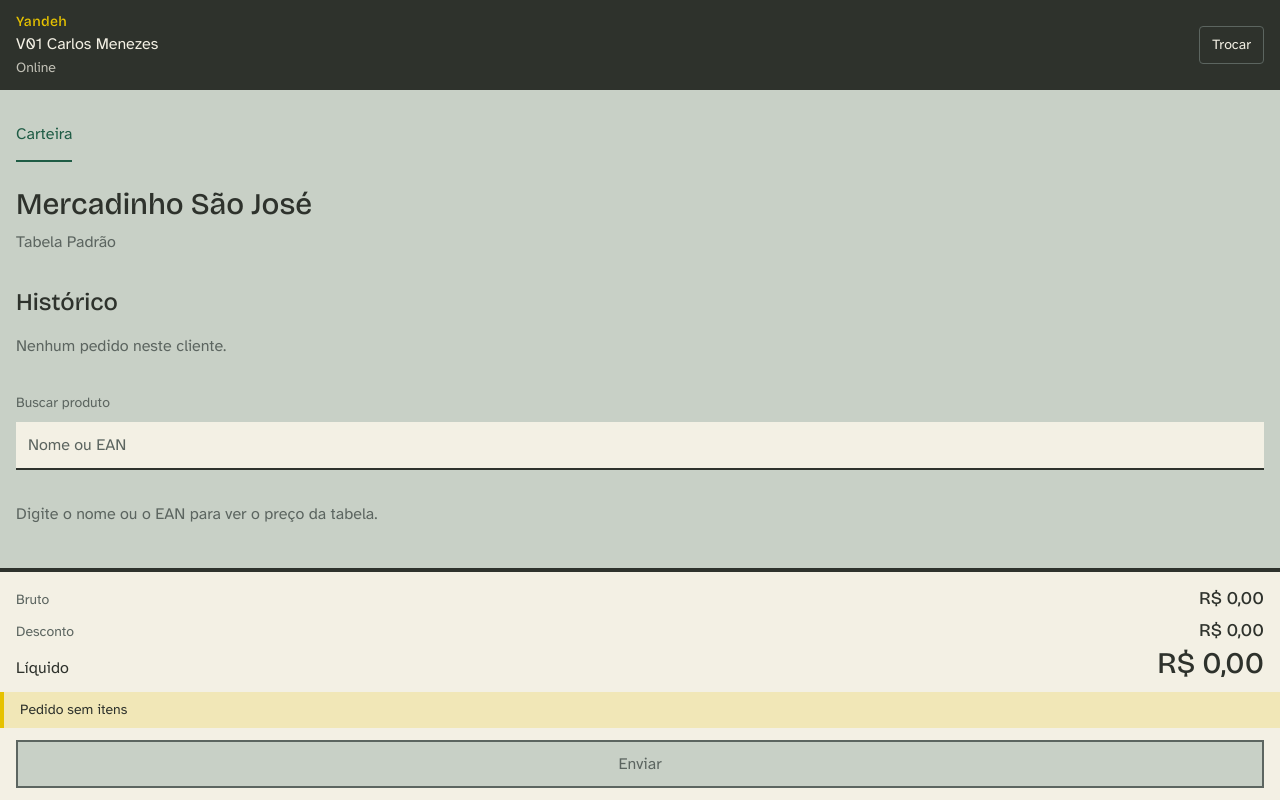
OrderPage › mostra estado vazio quando a busca não encontra produto
Type "xyzinexistente" into the search field with test id "product-search".
click(640, 446); type("xyzinexistente")  # box top-left (16, 422), bottom-right (1264, 470)
Wait 300 ms
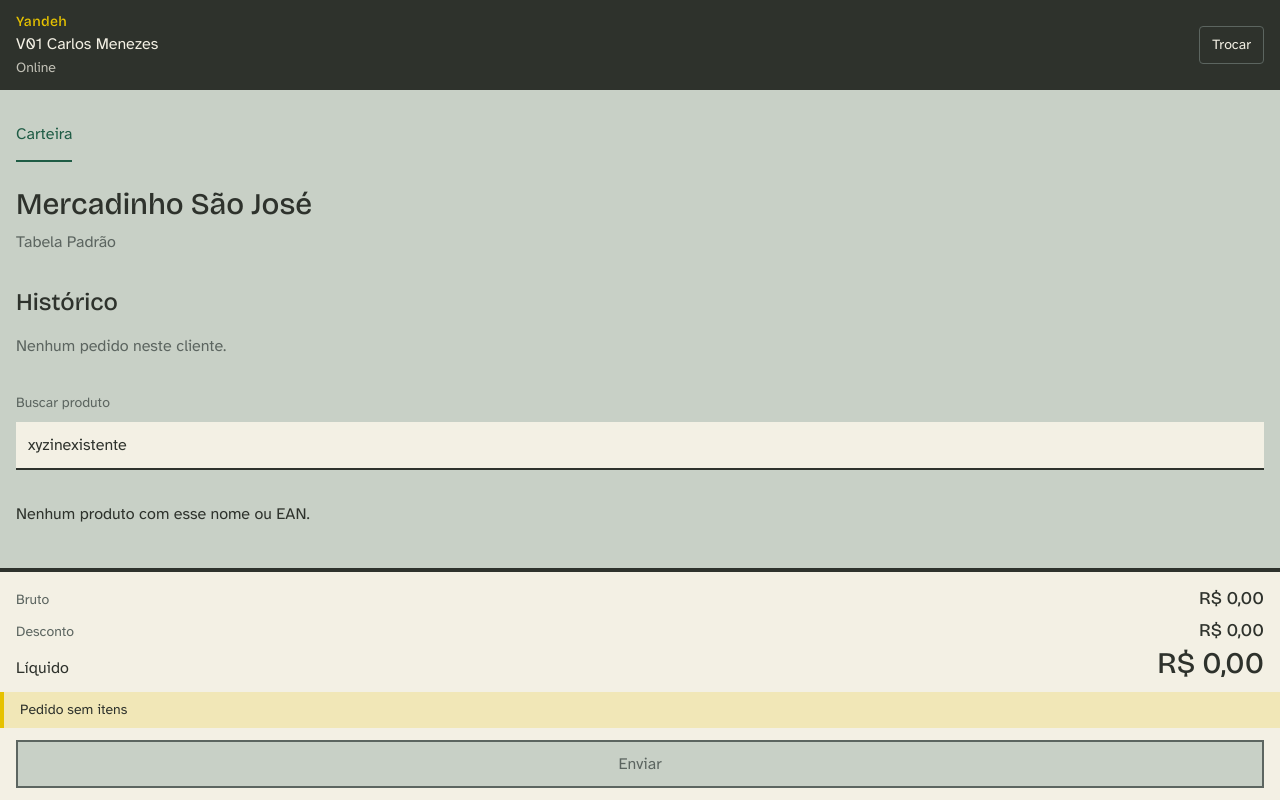
Check: the text "Nenhum produto com esse nome ou EAN." is shown, box top-left (16, 504), bottom-right (310, 524)
